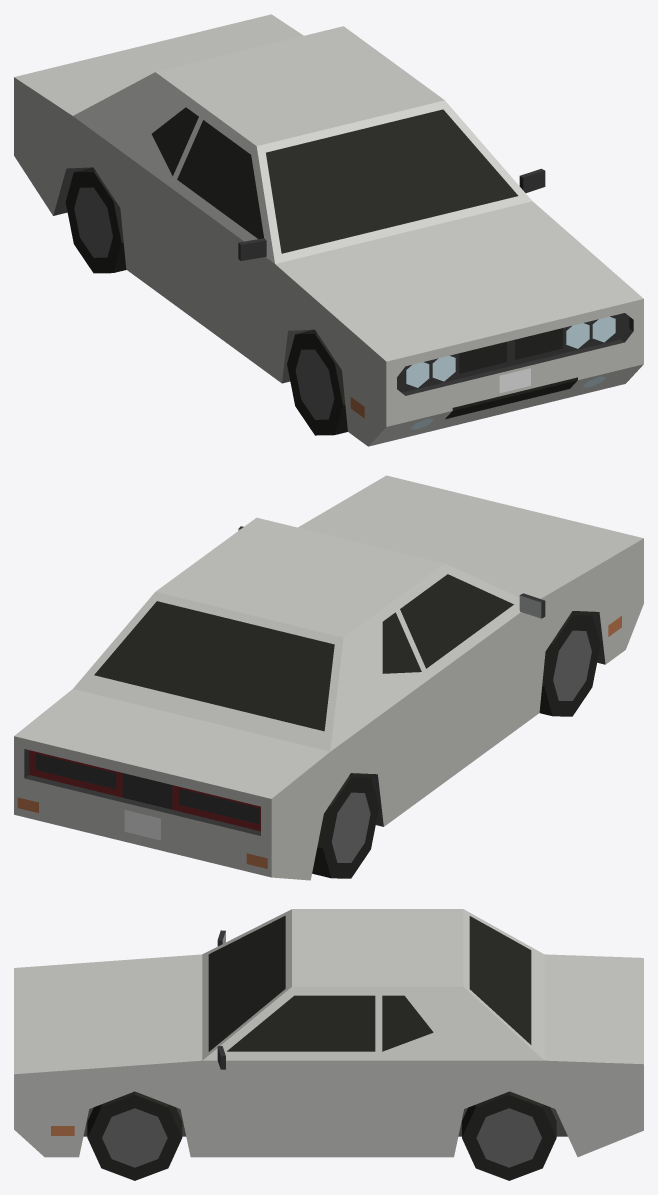
The model's file is Veh_Muscle_Car_01_White.glb.
The picture shows the model from 3 angles, top to bottom: view 1: azimuth 30°, elevation 25°; view 2: azimuth 150°, elevation 25°; view 3: azimuth 270°, elevation 25°; orthographic projection. The views are drawn at different scales.
Parts seen in each view (by area): view 1: Muscle_Car_01_White, Wheel_FR, Wheel_RR; view 2: Muscle_Car_01_White, Wheel_RR, Wheel_FR; view 3: Muscle_Car_01_White, Wheel_FL, Wheel_RL.
Part boxes in pixels (x1,y1,x2,y2): Muscle_Car_01_White: (14,14,643,446); Wheel_FR: (287,329,347,435); Wheel_RR: (65,167,126,273); Muscle_Car_01_White: (14,475,643,880); Wheel_RR: (312,773,378,878); Wheel_FR: (539,611,600,716); Muscle_Car_01_White: (14,909,643,1157); Wheel_FL: (87,1091,182,1180); Wheel_RL: (462,1091,556,1180).
Bounding box in the file's own units: 1.22 × 0.8156 × 2.59.
Materials: 1 (1 with a texture image).
